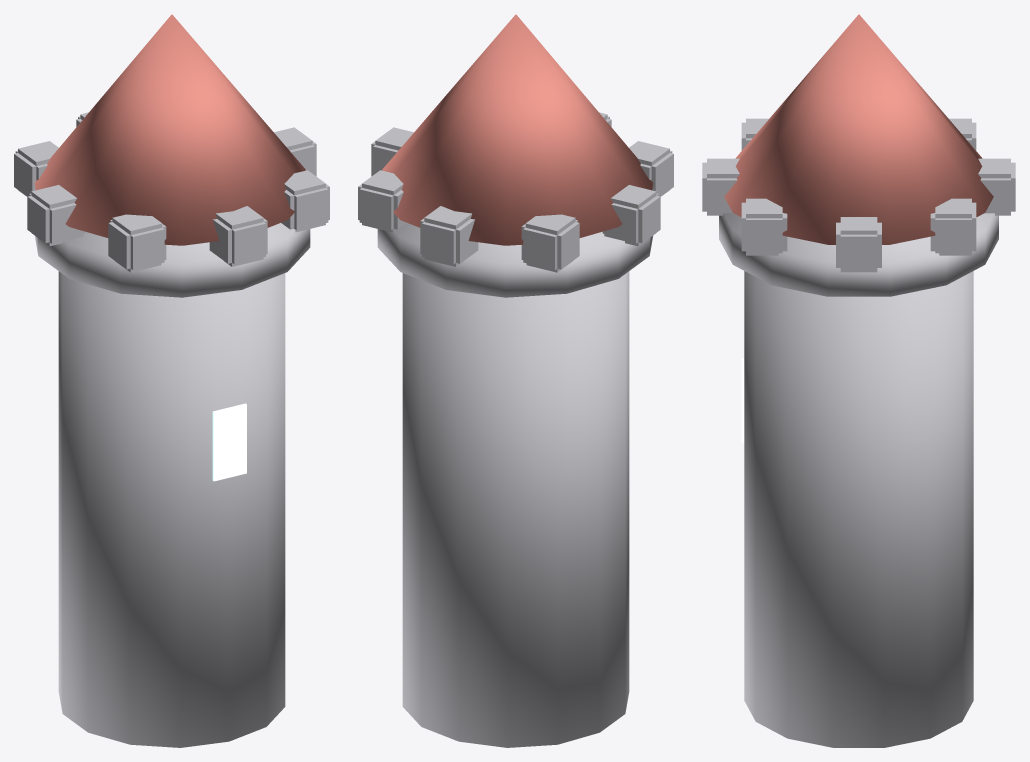
Rendered from build_tower.glb.
3 views of the same model, side by side, from view 1: azimuth 30°, elevation 25°; view 2: azimuth 150°, elevation 25°; view 3: azimuth 270°, elevation 25° (orthographic).
Parts seen in each view (by area): view 1: cone; view 2: cone; view 3: cone.
Part boxes in pixels (x1,y1,x2,y2): cone: [14, 14, 329, 747]; cone: [358, 14, 673, 747]; cone: [702, 14, 1015, 747].
Bounding box in the file's own units: 2.46 × 5.95 × 2.46.
